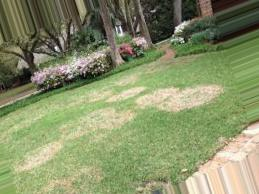patch: (142, 84, 218, 109), (69, 110, 140, 136), (47, 164, 88, 189), (116, 80, 150, 106), (42, 144, 73, 163), (12, 112, 39, 129)
